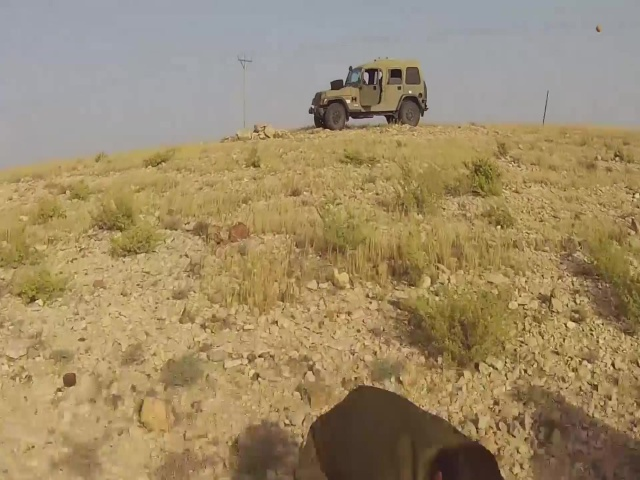vehicle: (308, 58, 428, 130)
